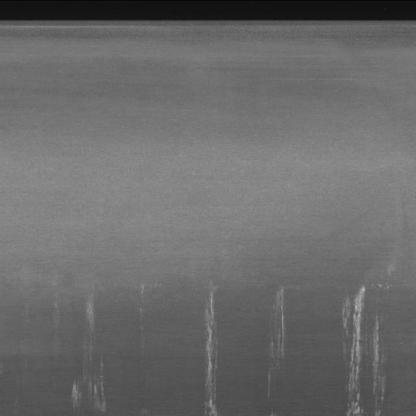waist_folding: (58, 283, 404, 416)
